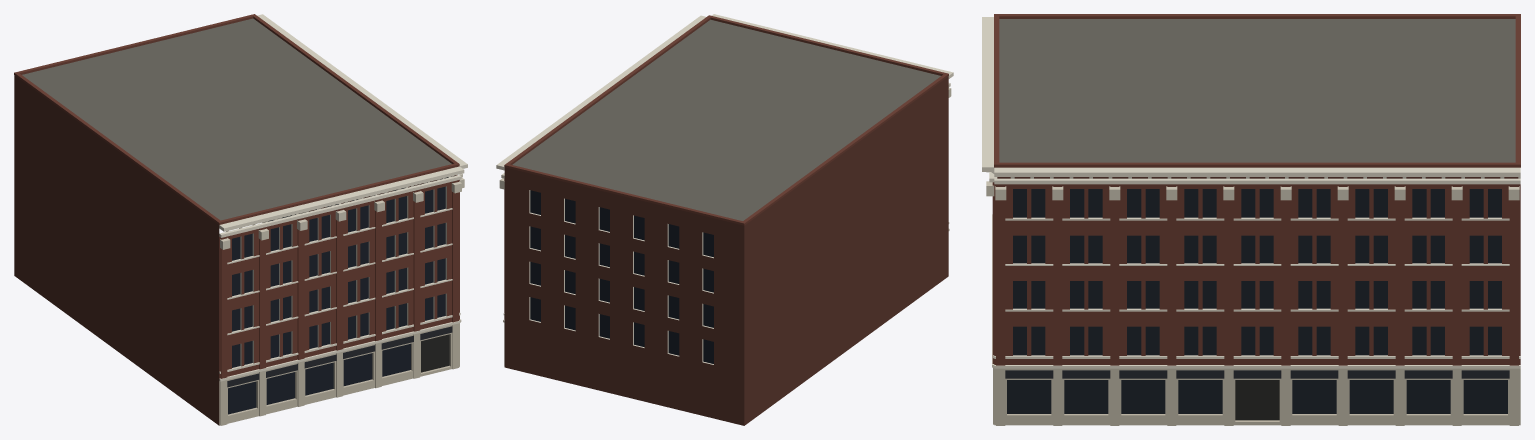
The model's file is donaghey-building.glb.
The picture shows the model from 3 angles, left to right: view 1: azimuth 30°, elevation 25°; view 2: azimuth 150°, elevation 25°; view 3: azimuth 270°, elevation 25°; orthographic projection. The views are drawn at different scales.
Parts seen in each view (by area): view 1: donaghey_roof, donaghey_brick2, donaghey_brick, donaghey_glass, donaghey_trim, donaghey_stone, donaghey_sash, donaghey_sign, donaghey_dark, donaghey_trim2; view 2: donaghey_brick2, donaghey_roof, donaghey_glass, donaghey_brick, donaghey_trim, donaghey_sash; view 3: donaghey_roof, donaghey_brick, donaghey_glass, donaghey_trim, donaghey_stone, donaghey_sign, donaghey_dark, donaghey_trim2, donaghey_sash, donaghey_brick2.
Part boxes in pixels (x1=…): donaghey_roof: x1=22, y1=18, x2=451, y2=220; donaghey_brick2: x1=14, y1=75, x2=219, y2=425; donaghey_brick: x1=14, y1=14, x2=459, y2=378; donaghey_glass: x1=228, y1=177, x2=448, y2=414; donaghey_trim: x1=219, y1=14, x2=467, y2=381; donaghey_stone: x1=219, y1=211, x2=459, y2=425; donaghey_sash: x1=232, y1=176, x2=450, y2=368; donaghey_sign: x1=227, y1=326, x2=452, y2=387; donaghey_dark: x1=421, y1=334, x2=449, y2=372; donaghey_trim2: x1=220, y1=177, x2=464, y2=249; donaghey_brick2: x1=504, y1=76, x2=948, y2=425; donaghey_roof: x1=512, y1=19, x2=940, y2=220; donaghey_glass: x1=530, y1=190, x2=713, y2=363; donaghey_brick: x1=504, y1=15, x2=948, y2=319; donaghey_trim: x1=496, y1=14, x2=953, y2=322; donaghey_sash: x1=529, y1=190, x2=713, y2=364; donaghey_roof: x1=999, y1=19, x2=1515, y2=162; donaghey_brick: x1=992, y1=14, x2=1520, y2=365; donaghey_glass: x1=1007, y1=189, x2=1507, y2=413; donaghey_trim: x1=982, y1=17, x2=1520, y2=368; donaghey_stone: x1=993, y1=367, x2=1520, y2=425; donaghey_sign: x1=1005, y1=370, x2=1509, y2=378; donaghey_dark: x1=1235, y1=380, x2=1279, y2=420; donaghey_trim2: x1=986, y1=172, x2=1519, y2=200; donaghey_sash: x1=994, y1=177, x2=1520, y2=355; donaghey_brick2: x1=997, y1=177, x2=1518, y2=178.
Size of the model in its own units: 30.12 by 23.5 by 44.02.
